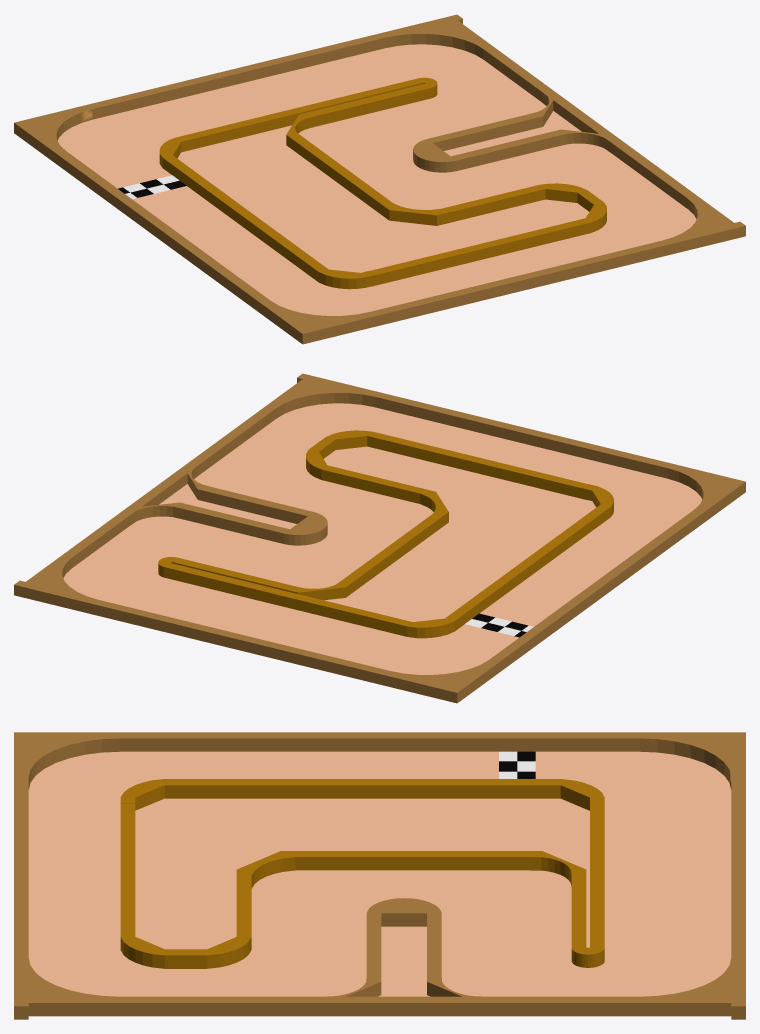
Rendered from Pista_V3.fbx.
3 renders of one model, top to bottom at view 1: azimuth 30°, elevation 25°; view 2: azimuth 150°, elevation 25°; view 3: azimuth 270°, elevation 25°, orthographic. The views are drawn at different scales.
Visible parts, largest first — view 1: Plane.050, PE3, CurvasInts, CurvaExtra, CantosExts.002, CantosExts.003, meta, CantosExts, CantosExts.001; view 2: Plane.050, PE3, CurvasInts, CurvaExtra, CantosExts, CantosExts.001, meta, CantosExts.002, CantosExts.003; view 3: Plane.050, PE3, CurvasInts, CurvaExtra, CantosExts.001, CantosExts.003, CantosExts, CantosExts.002, meta.
Part boxes in pixels (x1,y1,x2,y2): Plane.050: (58,44,696,315); PE3: (14,14,745,344); CurvasInts: (159,77,606,289); CurvaExtra: (413,89,610,172); CantosExts.002: (384,17,483,58); CantosExts.003: (23,109,92,150); meta: (118,175,186,199); CantosExts: (665,199,726,239); CantosExts.001: (272,301,367,330); Plane.050: (63,403,701,674); PE3: (14,373,745,703); CurvasInts: (158,430,613,638); CurvaExtra: (120,465,327,545); CantosExts: (276,376,375,417); CantosExts.001: (667,468,740,509); meta: (465,613,533,637); CantosExts.002: (23,558,94,598); CantosExts.003: (392,660,487,688); Plane.050: (28,751,731,996); PE3: (14,732,745,1019); CurvasInts: (120,779,604,968); CurvaExtra: (317,898,491,1016); CantosExts.001: (16,733,120,789); CantosExts.003: (639,736,740,789); CantosExts: (16,958,116,1001); CantosExts.002: (643,958,742,1000); meta: (499,751,535,778).
Bounding box in the file's own units: 21120 × 490 × 23824.
